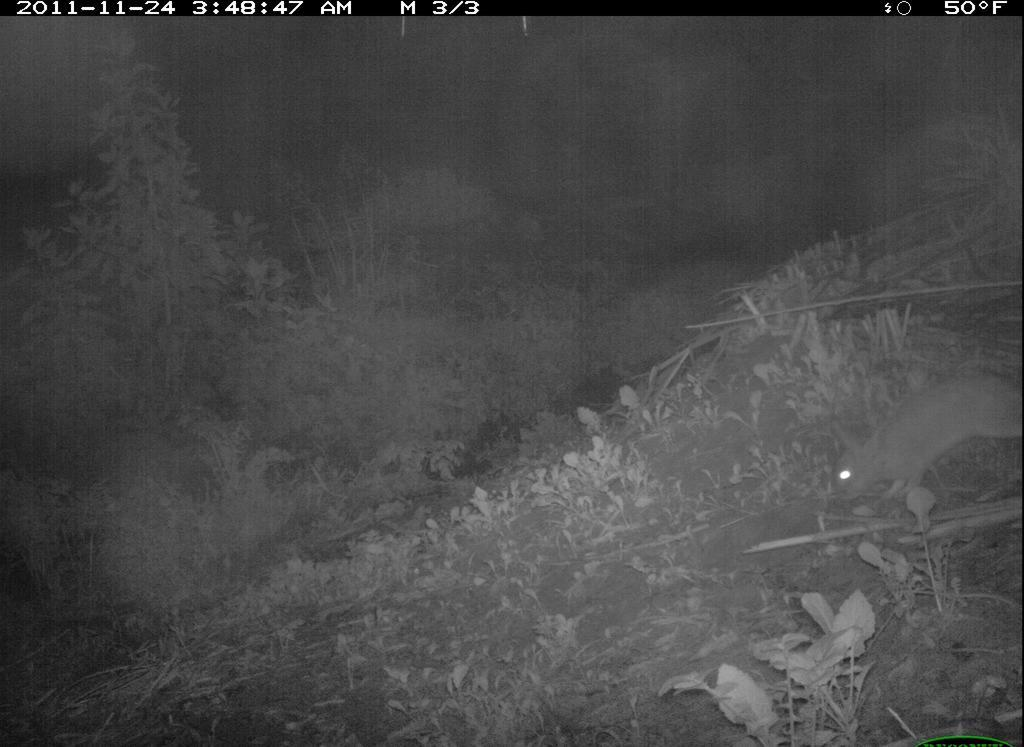rabbit: (829, 357, 1024, 508)
